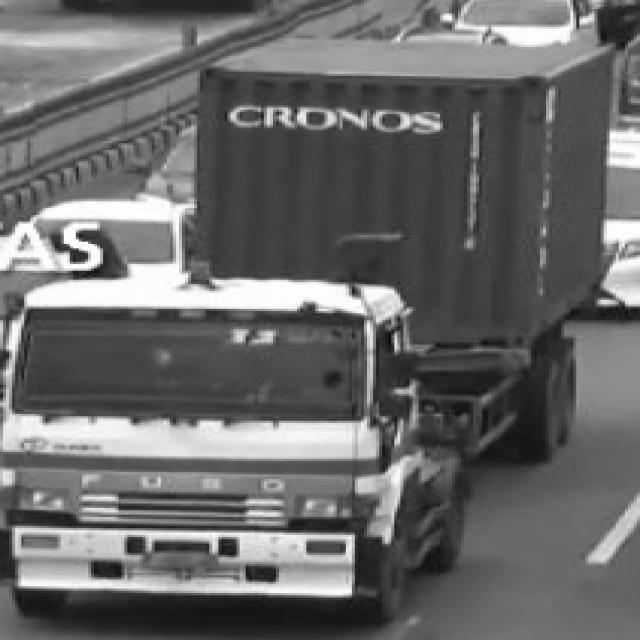Truck: (3, 25, 640, 637)
